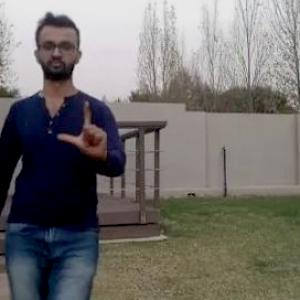land_hand: (60, 97, 118, 165)
